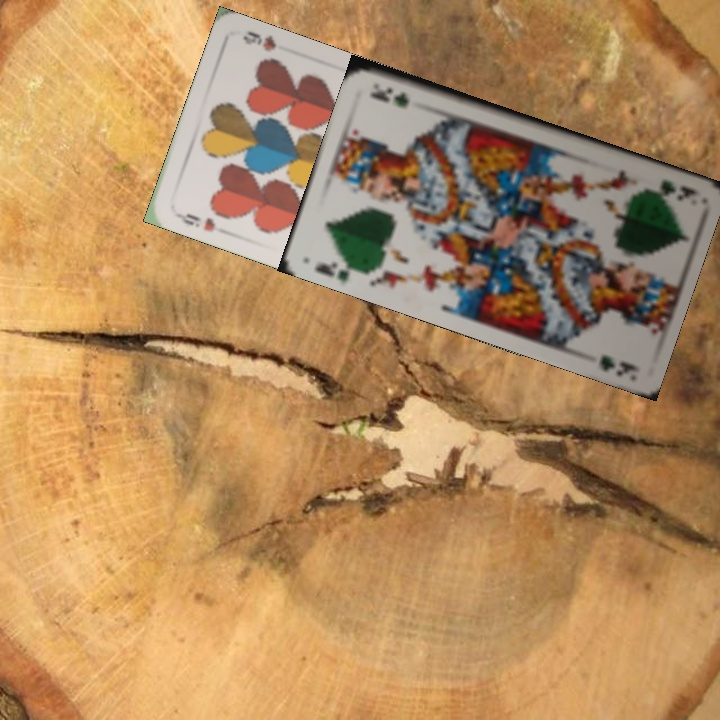GK: (310, 255, 366, 285), (640, 176, 700, 203)
H9: (171, 208, 218, 234)
